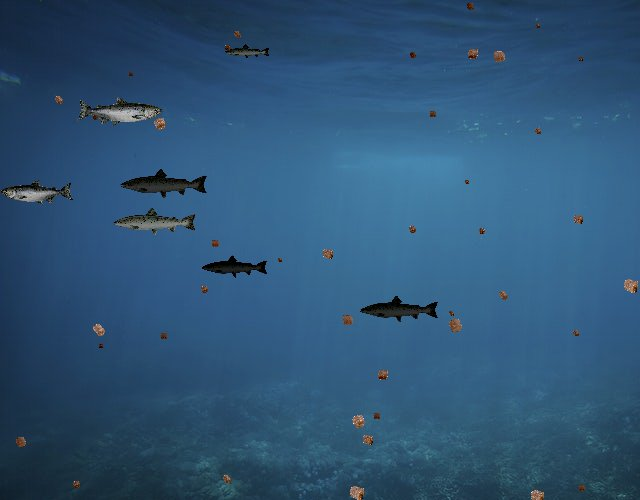Fish: (120, 167, 210, 199), (112, 206, 198, 237), (76, 96, 162, 127), (359, 295, 440, 324), (2, 179, 75, 206), (202, 255, 270, 279), (224, 43, 271, 60)
Pellet: (487, 44, 511, 68), (316, 243, 339, 266), (493, 285, 513, 305), (49, 90, 68, 109), (229, 26, 245, 42), (369, 409, 384, 423), (462, 176, 472, 186)
